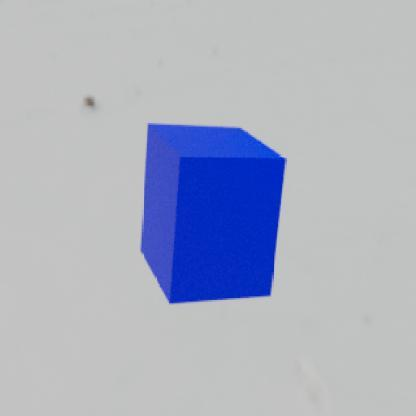blue_cube: (139, 122, 286, 304)
